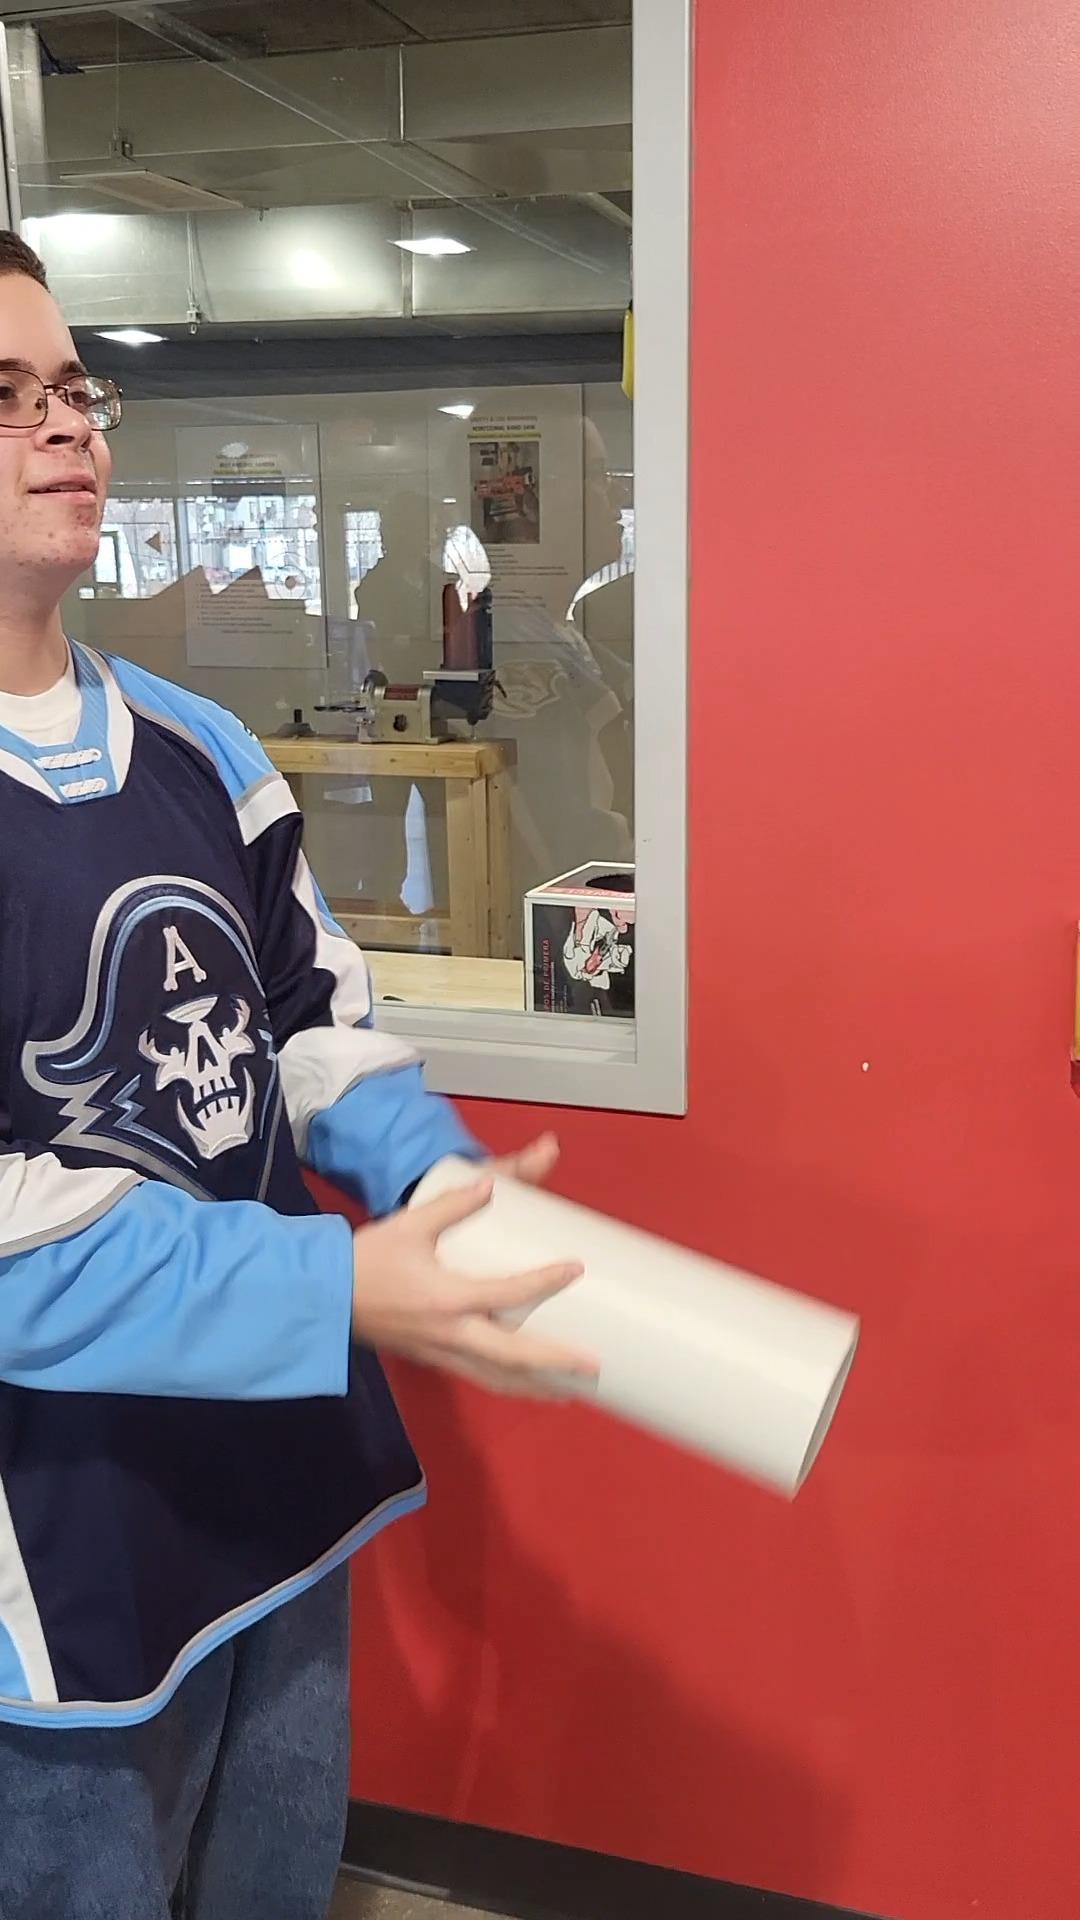coral: (397, 1154, 870, 1477)
